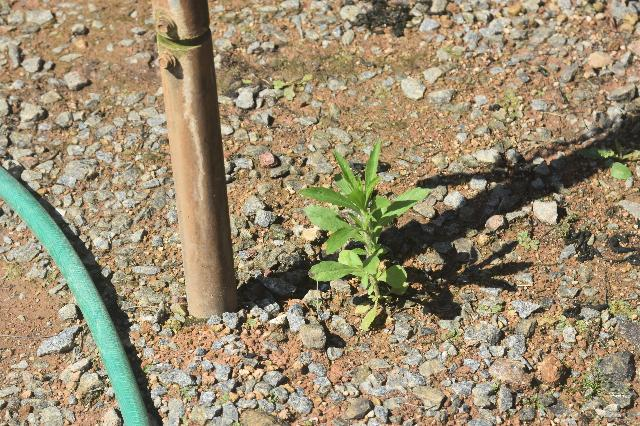MalezaMontesDelPlata: (300, 141, 435, 331)
